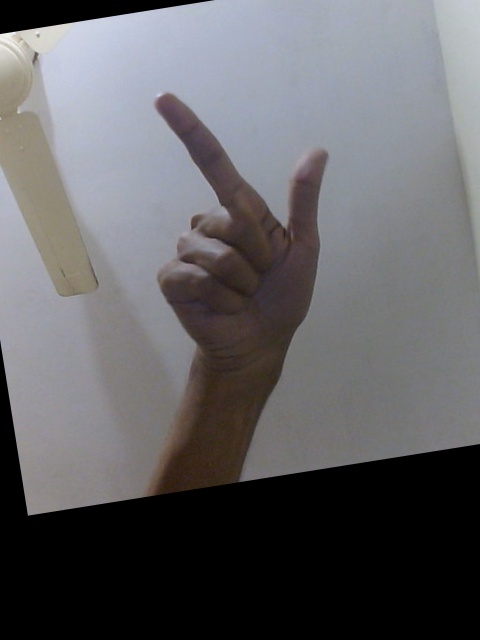hand: (149, 82, 333, 384)
